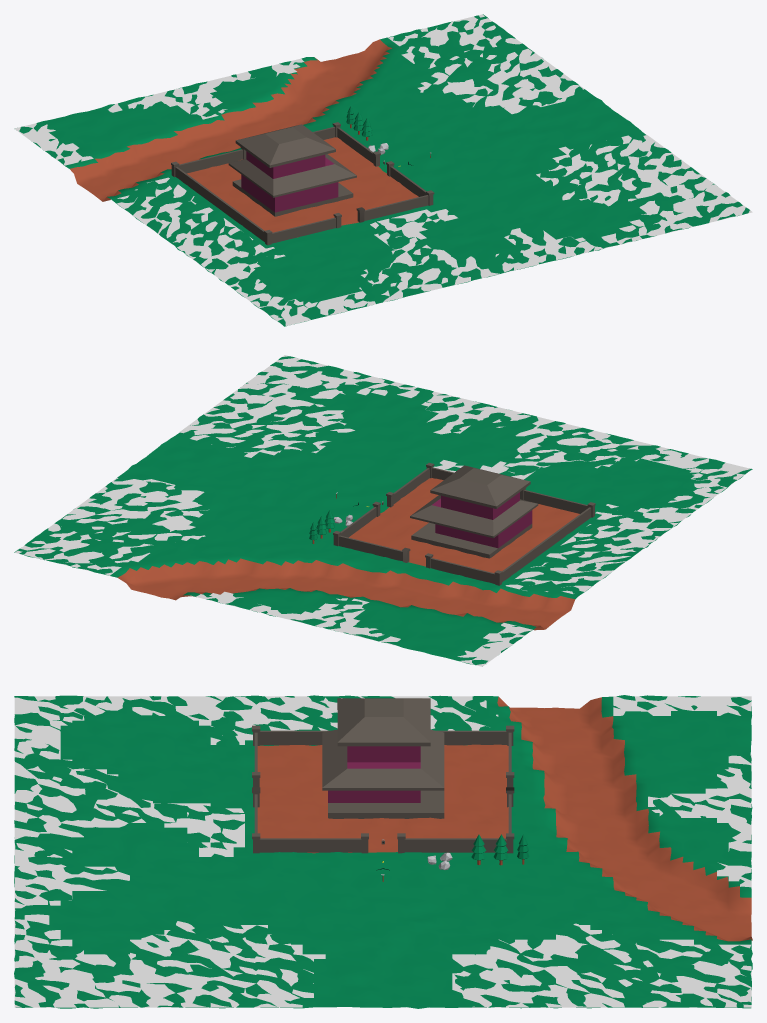
File: assets.fbx
3 views of the same model, one above another, from view 1: azimuth 30°, elevation 25°; view 2: azimuth 150°, elevation 25°; view 3: azimuth 270°, elevation 25° (orthographic). The views are drawn at different scales.
Parts seen in each view (by area): view 1: Terrain, TreesSurface, House, Fence; view 2: Terrain, TreesSurface, House, Fence; view 3: Terrain, TreesSurface, House, Fence.
Boxes of the visible parts, <box> form: Terrain: <box>19,14,749,326</box>; TreesSurface: <box>14,14,752,325</box>; House: <box>228,124,356,216</box>; Fence: <box>171,122,434,245</box>; Terrain: <box>14,356,752,665</box>; TreesSurface: <box>15,355,750,666</box>; House: <box>410,465,538,558</box>; Fence: <box>333,462,595,585</box>; Terrain: <box>14,695,752,1008</box>; TreesSurface: <box>14,696,751,1007</box>; House: <box>322,698,444,818</box>; Fence: <box>252,725,514,853</box>.
Bounding box in the file's own units: 10031 × 1379 × 10029.
